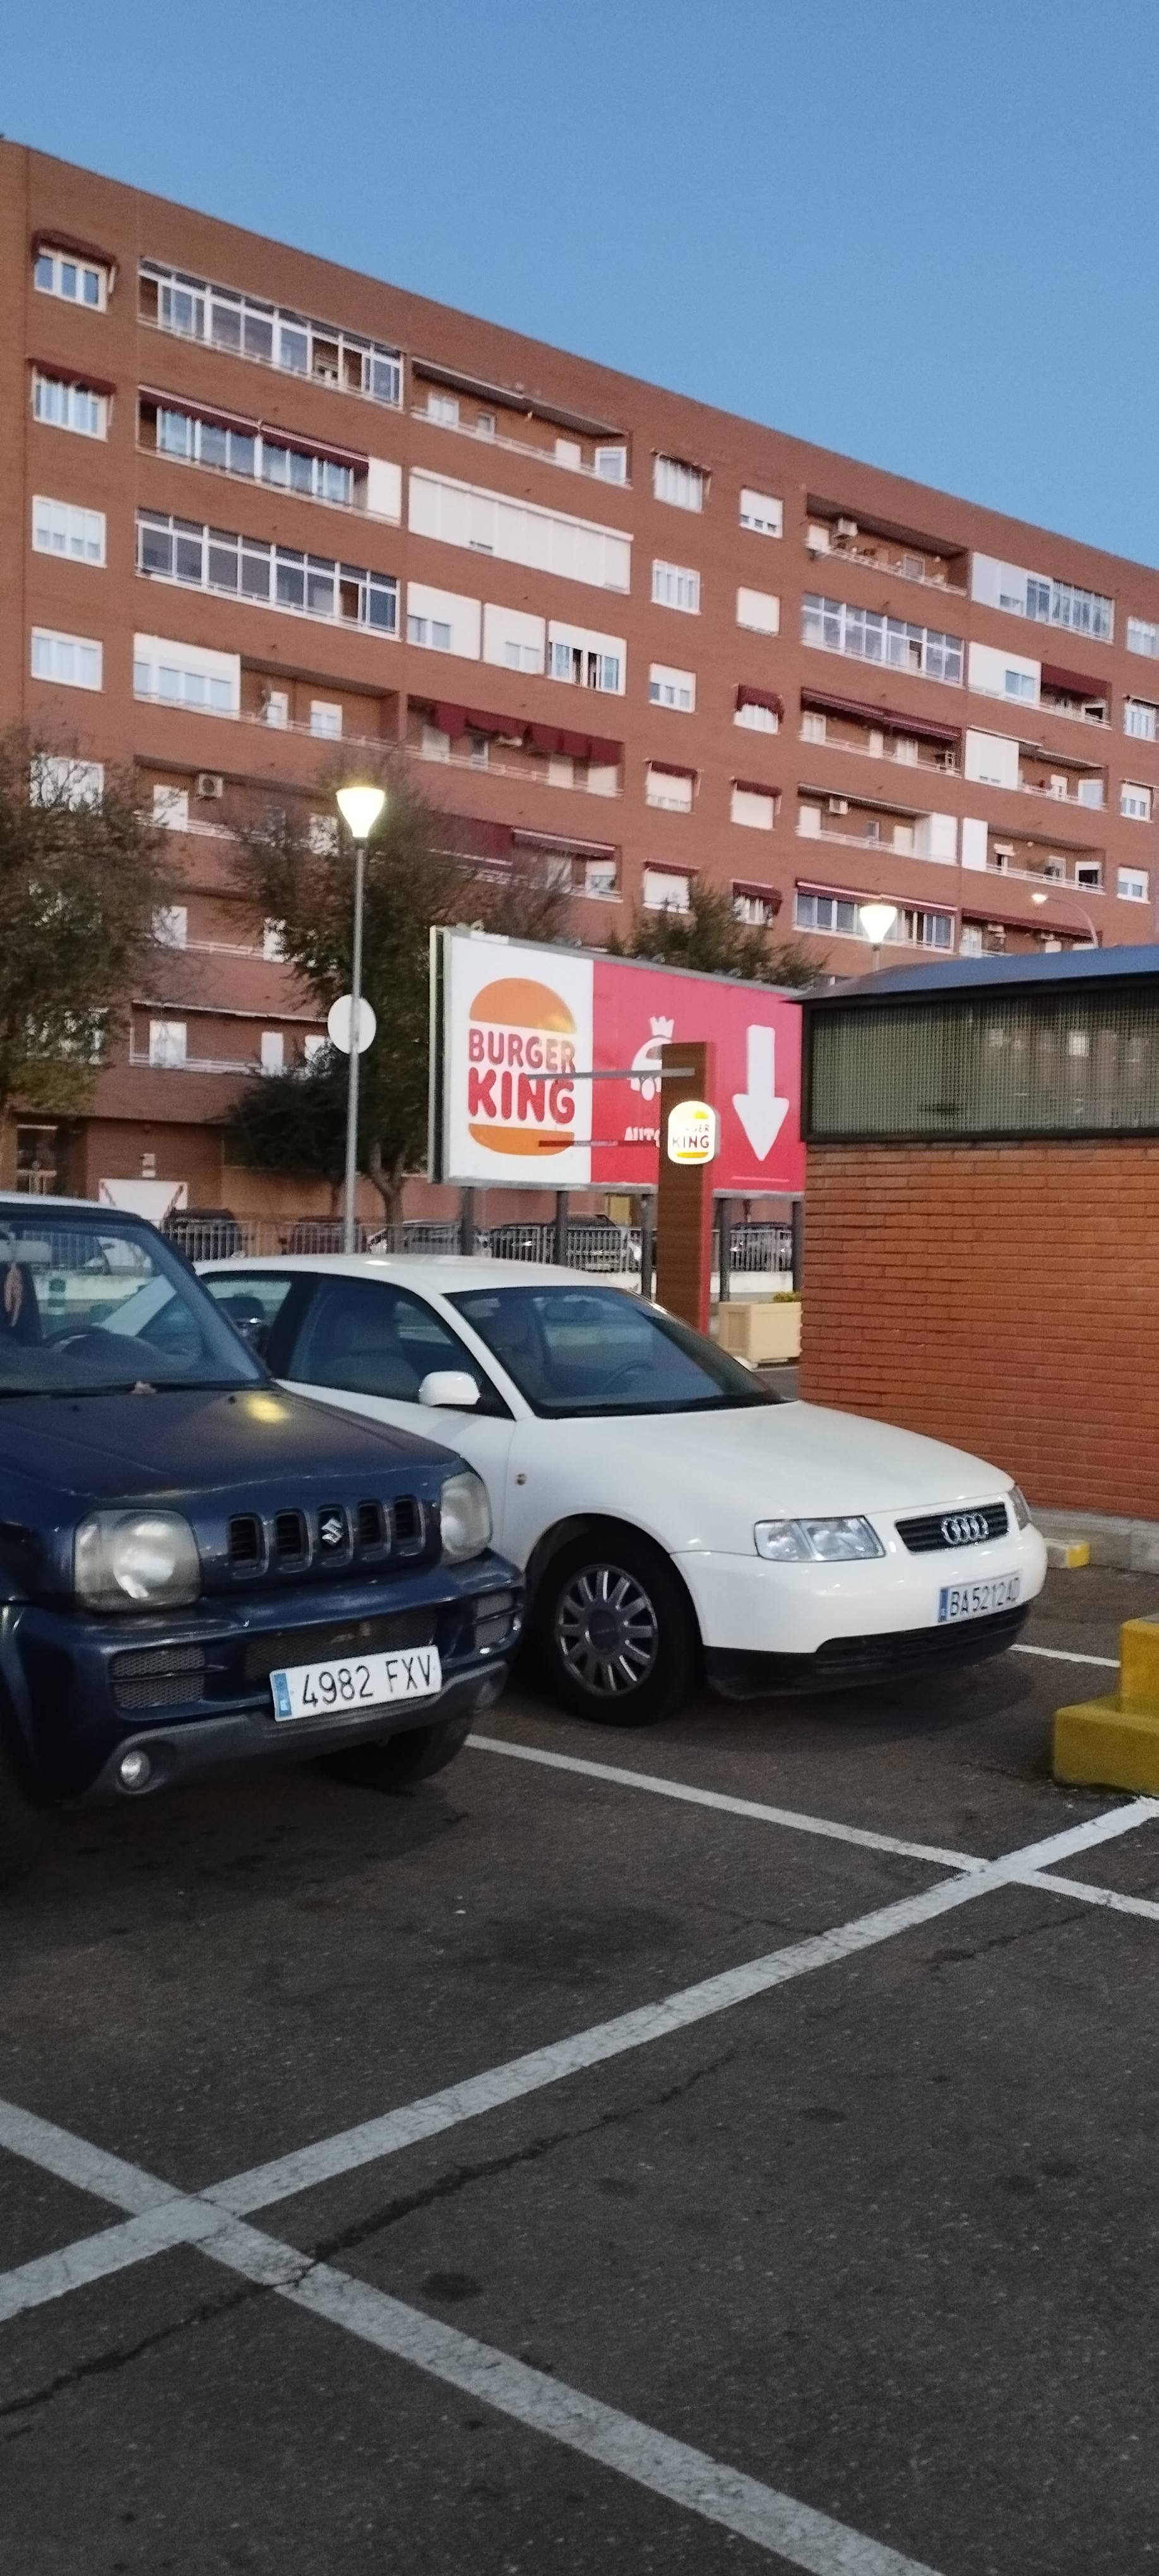Car: (1, 1194, 520, 1798), (389, 1251, 1049, 1726)
Plate: (269, 1673, 438, 1720), (936, 1589, 1022, 1620)
